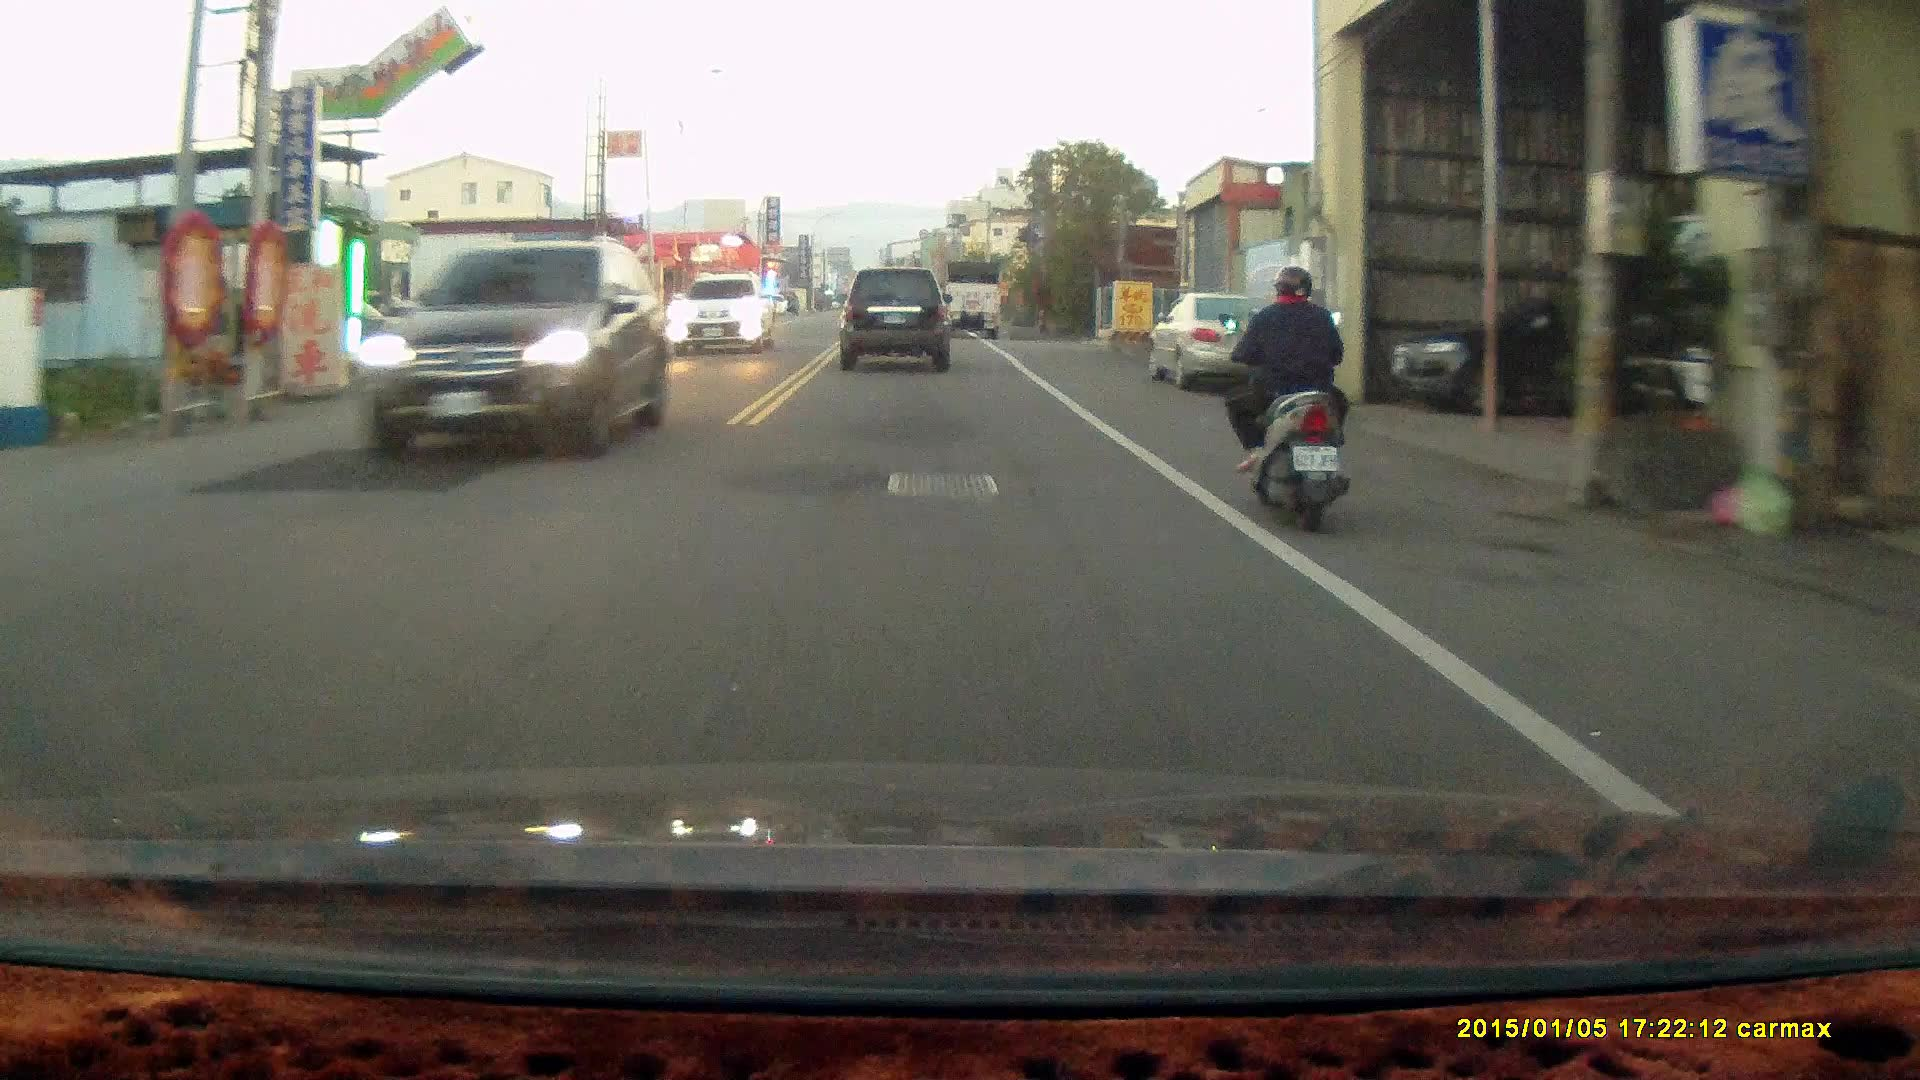rider: (1212, 259, 1349, 531)
vehicle: (361, 239, 669, 459), (1388, 295, 1662, 416), (1149, 290, 1300, 394), (840, 267, 955, 373), (669, 275, 779, 360), (933, 259, 1004, 338)
